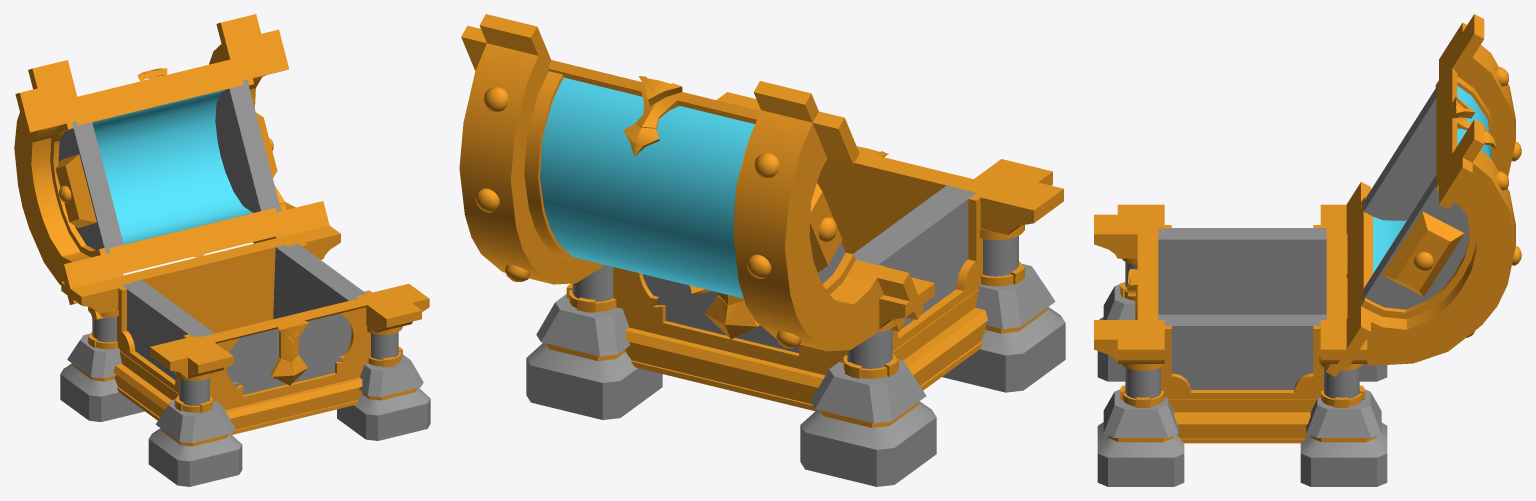
The model's file is Chest.FBX.
3 renders of one model, left to right at view 1: azimuth 30°, elevation 25°; view 2: azimuth 150°, elevation 25°; view 3: azimuth 270°, elevation 25°, orthographic. The views are drawn at different scales.
Parts seen in each view (by area): view 1: Chest, Chest_Cap; view 2: Chest_Cap, Chest; view 3: Chest, Chest_Cap.
Boxes of the visible parts, <box> form: Chest: <box>60,225,430,486</box>; Chest_Cap: <box>14,14,329,320</box>; Chest_Cap: <box>459,14,923,351</box>; Chest: <box>526,92,1065,486</box>; Chest: <box>1094,204,1390,486</box>; Chest_Cap: <box>1326,14,1521,376</box>.
Bounding box in the file's own units: 178 × 195 × 222.
